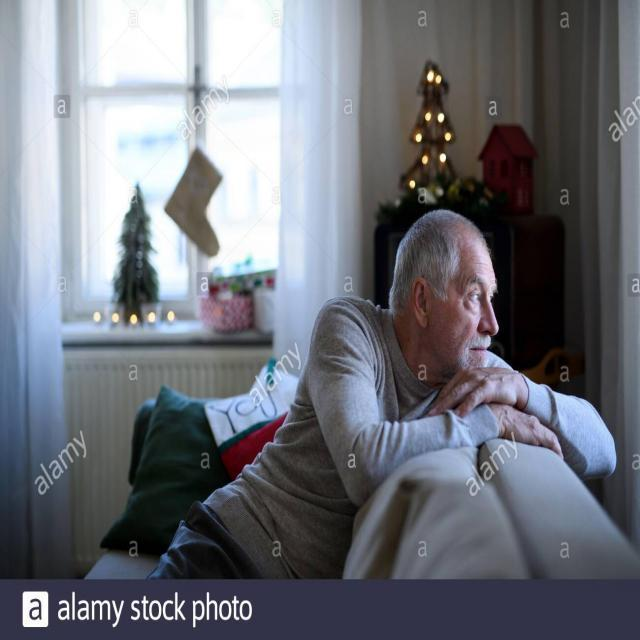sitting: (142, 209, 630, 592)
